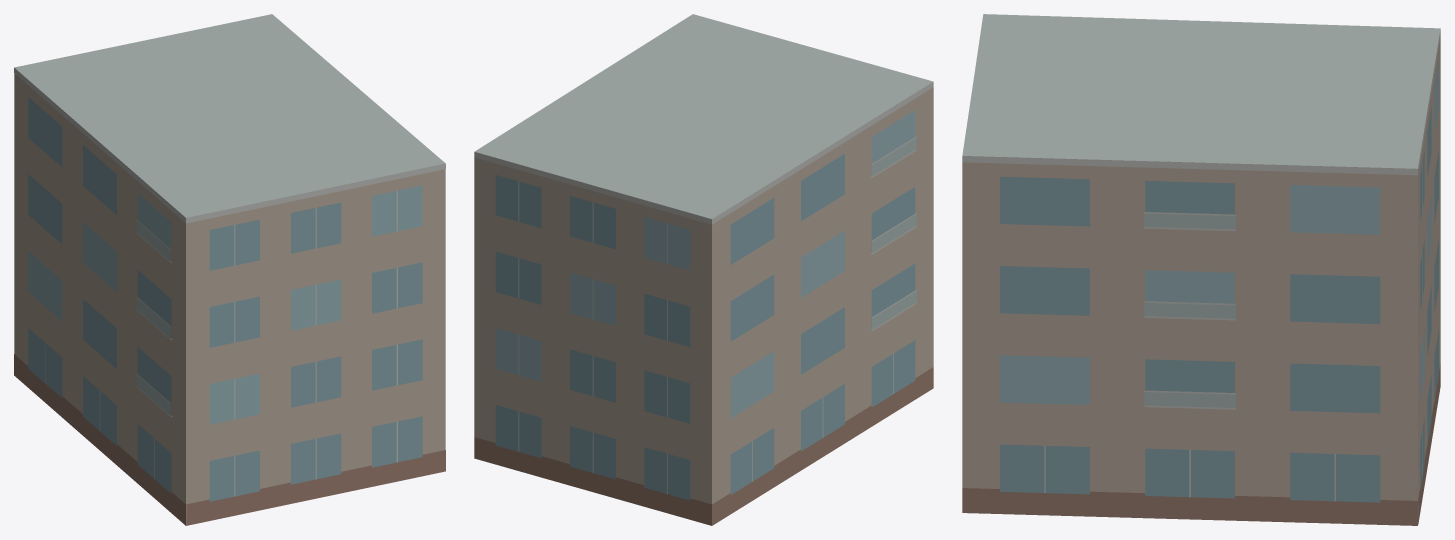
File: survey-upis-32735229.glb
The picture shows the model from 3 angles, left to right: view 1: azimuth 30°, elevation 25°; view 2: azimuth 150°, elevation 25°; view 3: azimuth 270°, elevation 25°; orthographic projection. The views are drawn at different scales.
Parts seen in each view (by area): view 1: survey-upis-32735229.tmp; view 2: survey-upis-32735229.tmp; view 3: survey-upis-32735229.tmp.
Part boxes in pixels (left/top/right/bottom): survey-upis-32735229.tmp: left=14, top=14, right=445, bottom=525; survey-upis-32735229.tmp: left=474, top=14, right=933, bottom=525; survey-upis-32735229.tmp: left=962, top=14, right=1440, bottom=525.
Size of the model in its own units: 12.56 by 13.5 by 16.4.
